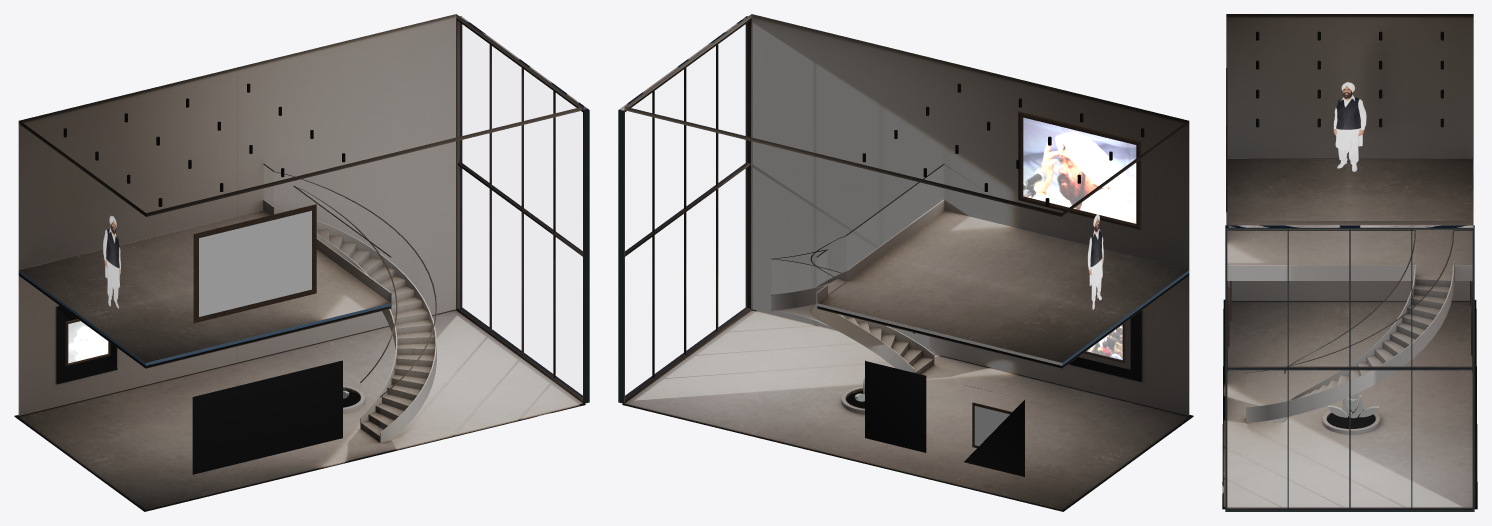
File: master-intro-gallery.gltf
3 views of the same model, side by side, from view 1: azimuth 30°, elevation 25°; view 2: azimuth 150°, elevation 25°; view 3: azimuth 270°, elevation 25° (orthographic). The views are drawn at different scales.
Parts seen in each view (by area): view 1: walls, floor, paintings, Floor2_2_Scan-130, steel, stairs, Floor1_1_IMG_20150710_0001-7-Edit, R-19; view 2: walls, floor, Floor2_2_Scan-130, steel, paintings, stairs, R-19, Floor1_1_IMG_20150710_0001-7-Edit, Floor1_3_Initiation_Chapter; view 3: floor, walls, stairs, steel, R-19, Logo.
Boxes of the visible parts, x1=… form: walls: x1=14, y1=14, x2=583, y2=416; floor: x1=15, y1=210, x2=585, y2=511; paintings: x1=56, y1=307, x2=342, y2=474; Floor2_2_Scan-130: x1=193, y1=204, x2=316, y2=323; steel: x1=63, y1=16, x2=589, y2=403; stairs: x1=263, y1=199, x2=436, y2=442; Floor1_1_IMG_20150710_0001-7-Edit: x1=65, y1=319, x2=110, y2=366; R-19: x1=103, y1=215, x2=120, y2=308; walls: x1=624, y1=14, x2=1193, y2=416; floor: x1=622, y1=210, x2=1192, y2=511; Floor2_2_Scan-130: x1=1018, y1=111, x2=1141, y2=229; steel: x1=618, y1=16, x2=1144, y2=403; paintings: x1=865, y1=310, x2=1141, y2=476; stairs: x1=771, y1=199, x2=944, y2=374; R-19: x1=1087, y1=214, x2=1103, y2=309; Floor1_1_IMG_20150710_0001-7-Edit: x1=972, y1=402, x2=1011, y2=447; Floor1_3_Initiation_Chapter: x1=1083, y1=323, x2=1125, y2=363; floor: x1=1222, y1=159, x2=1477, y2=509; walls: x1=1222, y1=14, x2=1477, y2=482; stairs: x1=1227, y1=265, x2=1472, y2=423; steel: x1=1225, y1=31, x2=1474, y2=511; R-19: x1=1333, y1=82, x2=1366, y2=171; Logo: x1=1328, y1=393, x2=1379, y2=418.
Size of the model in its own units: 11.83 by 7.52 by 6.04.
